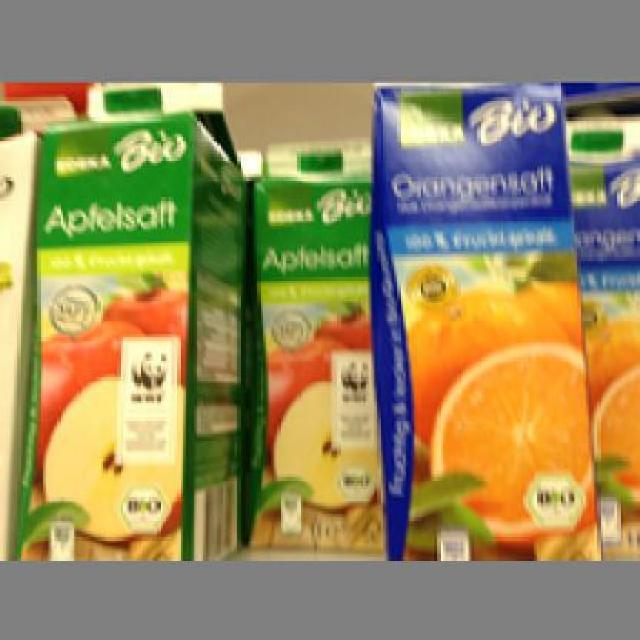Juice: (366, 79, 597, 555), (17, 79, 243, 555), (243, 133, 383, 550)
